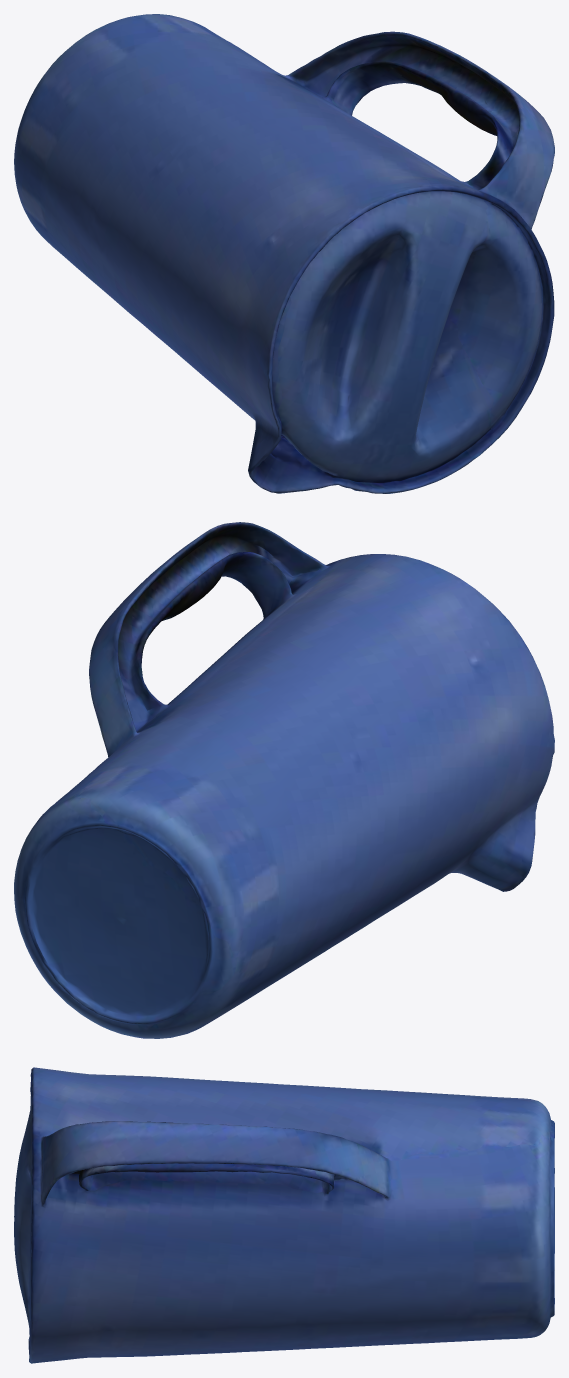
File: ddg-ycb_019_pitcher_base.glb
The picture shows the model from 3 angles, top to bottom: view 1: azimuth 30°, elevation 25°; view 2: azimuth 150°, elevation 25°; view 3: azimuth 270°, elevation 25°; orthographic projection. The views are drawn at different scales.
Parts seen in each view (by area): view 1: textured(Clone); view 2: textured(Clone); view 3: textured(Clone).
Boxes of the visible parts, bbox=[...] form: textured(Clone): bbox=[14, 14, 554, 493]; textured(Clone): bbox=[14, 522, 554, 1038]; textured(Clone): bbox=[14, 1067, 554, 1363].
Size of the model in its own units: 1.08 by 1.05 by 1.76.
Materials: 1 (1 with a texture image).
